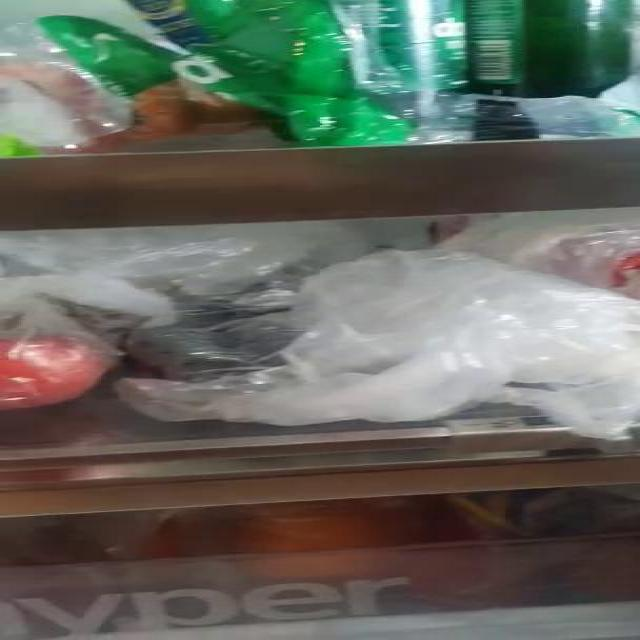mineral water: (356, 0, 639, 97)
tomato: (0, 331, 114, 409)
